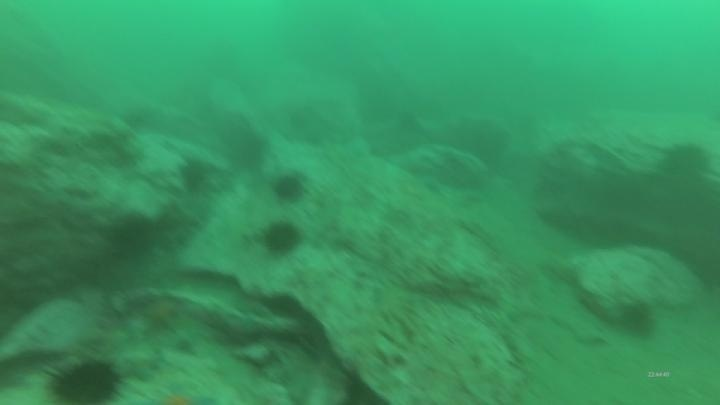echinus: (44, 355, 125, 404), (105, 214, 158, 263), (658, 140, 711, 184), (224, 128, 270, 172), (616, 298, 659, 342), (259, 218, 303, 259), (176, 155, 213, 195), (269, 170, 308, 205)
starfish: (114, 347, 164, 385), (139, 294, 184, 333), (151, 380, 217, 403)
